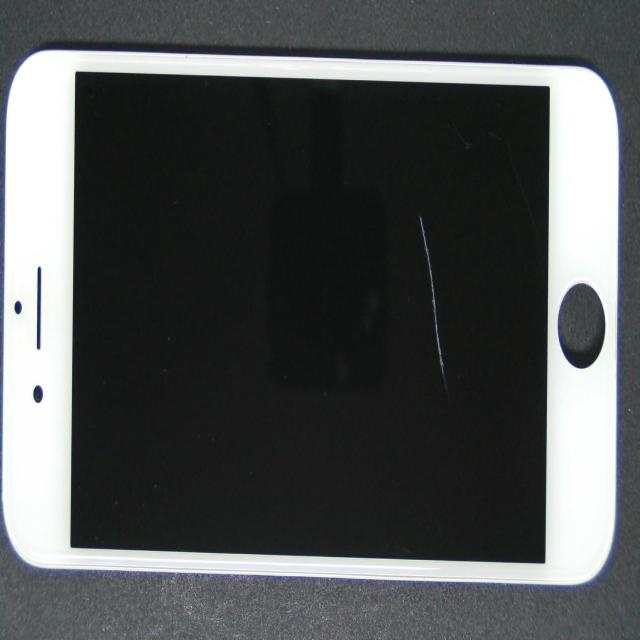scratch: (241, 293, 640, 469)
